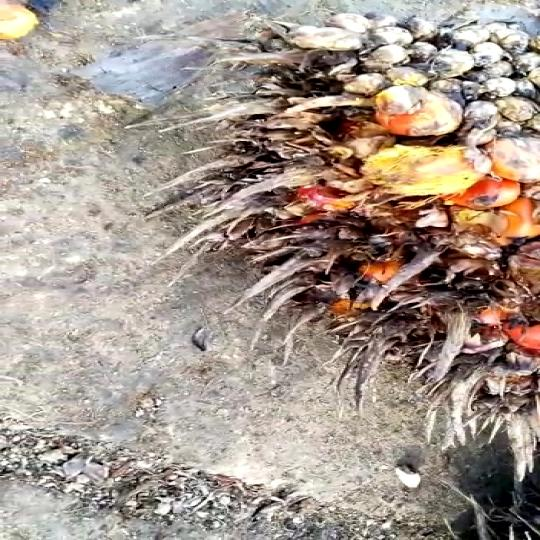terlalu masak: (142, 0, 540, 434)
